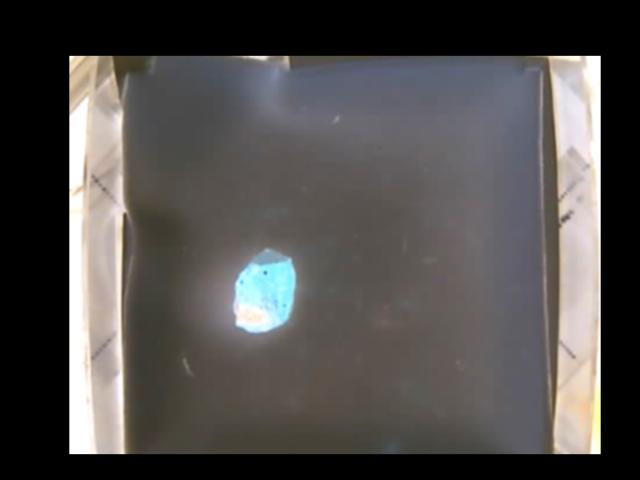Brisk: (232, 247, 294, 332)
